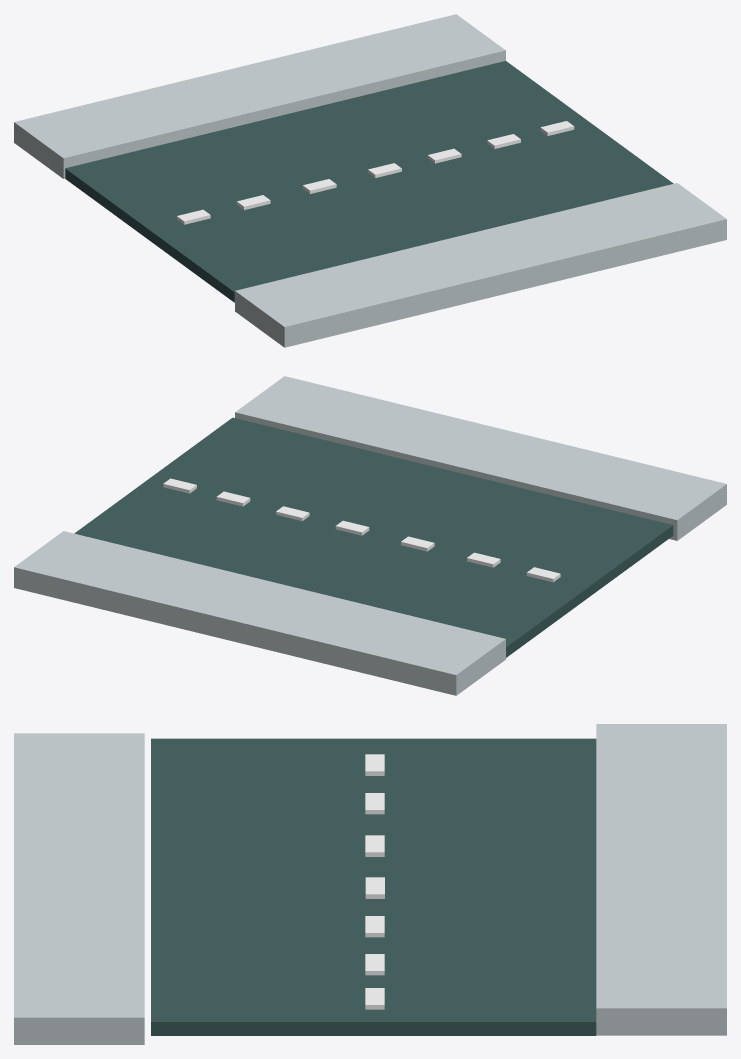
Rendered from road.glb.
The picture shows the model from 3 angles, top to bottom: view 1: azimuth 30°, elevation 25°; view 2: azimuth 150°, elevation 25°; view 3: azimuth 270°, elevation 25°; orthographic projection. The views are drawn at different scales.
Parts seen in each view (by area): view 1: Cubo, group444322953, group524283309; view 2: Cubo, group524283309, group444322953; view 3: Cubo, group524283309, group444322953.
Part boxes in pixels (<box>): Cubo: <box>65,61,673,302</box>; group444322953: <box>235,183,726,347</box>; group524283309: <box>14,14,505,178</box>; Cubo: <box>74,417,673,657</box>; group524283309: <box>14,531,505,695</box>; group444322953: <box>235,376,726,540</box>; Cubo: <box>151,738,596,1035</box>; group524283309: <box>596,724,726,1035</box>; group444322953: <box>14,733,144,1044</box>.
Size of what is drawn, in the model's own units: 10.05 by 0.6 by 10.65.
